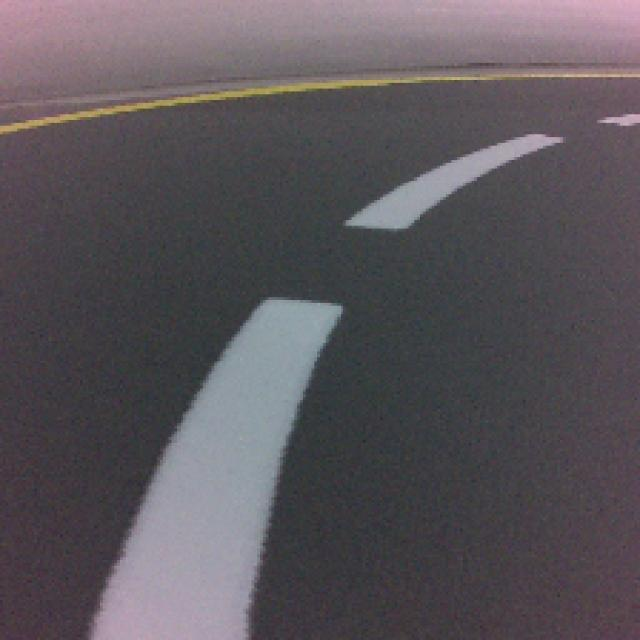Guard rail: (89, 297, 344, 638)
